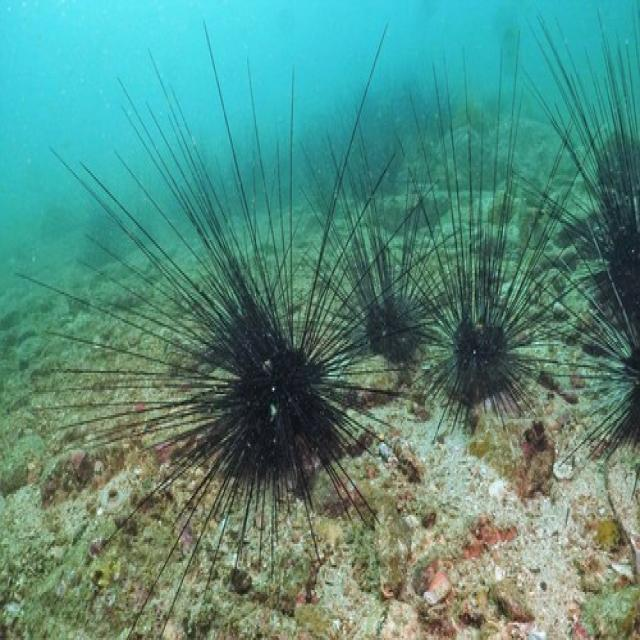Urchin: (51, 25, 433, 575), (421, 37, 565, 430), (297, 98, 452, 371), (563, 8, 640, 319)
